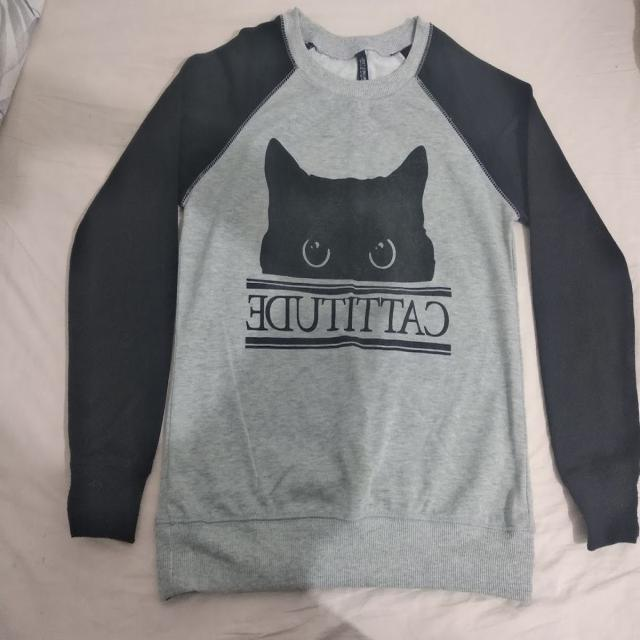sweater: (62, 12, 640, 606)
